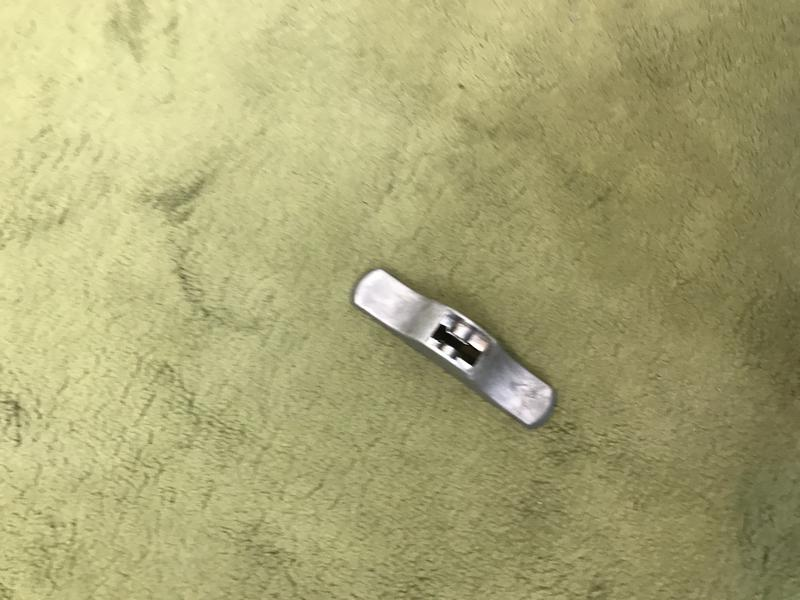zapchast: (341, 254, 568, 438)
